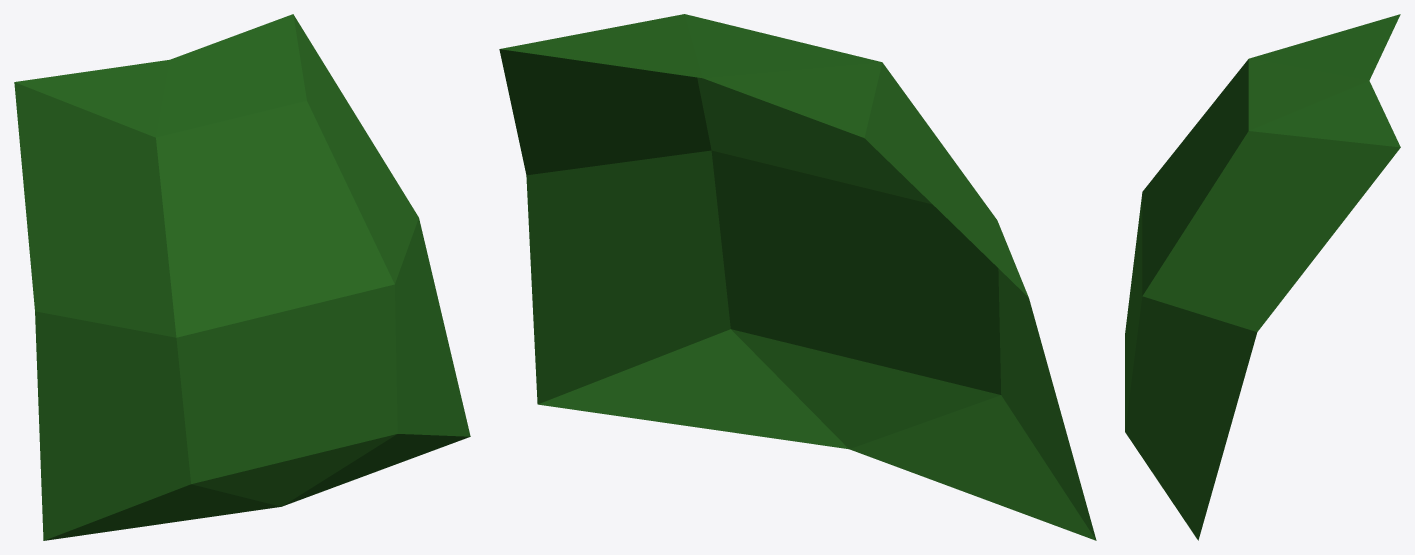
Rendered from Cannon_Housing.glb.
3 renders of one model, left to right at view 1: azimuth 30°, elevation 25°; view 2: azimuth 150°, elevation 25°; view 3: azimuth 270°, elevation 25°, orthographic. The views are drawn at different scales.
Parts seen in each view (by area): view 1: Cannon Housing; view 2: Cannon Housing; view 3: Cannon Housing.
Part boxes in pixels (x1,y1,x2,y2): Cannon Housing: (14, 14, 470, 540); Cannon Housing: (499, 14, 1096, 540); Cannon Housing: (1125, 14, 1400, 540).
Size of the model in its own units: 0.0765 by 0.0625 by 0.0436.
